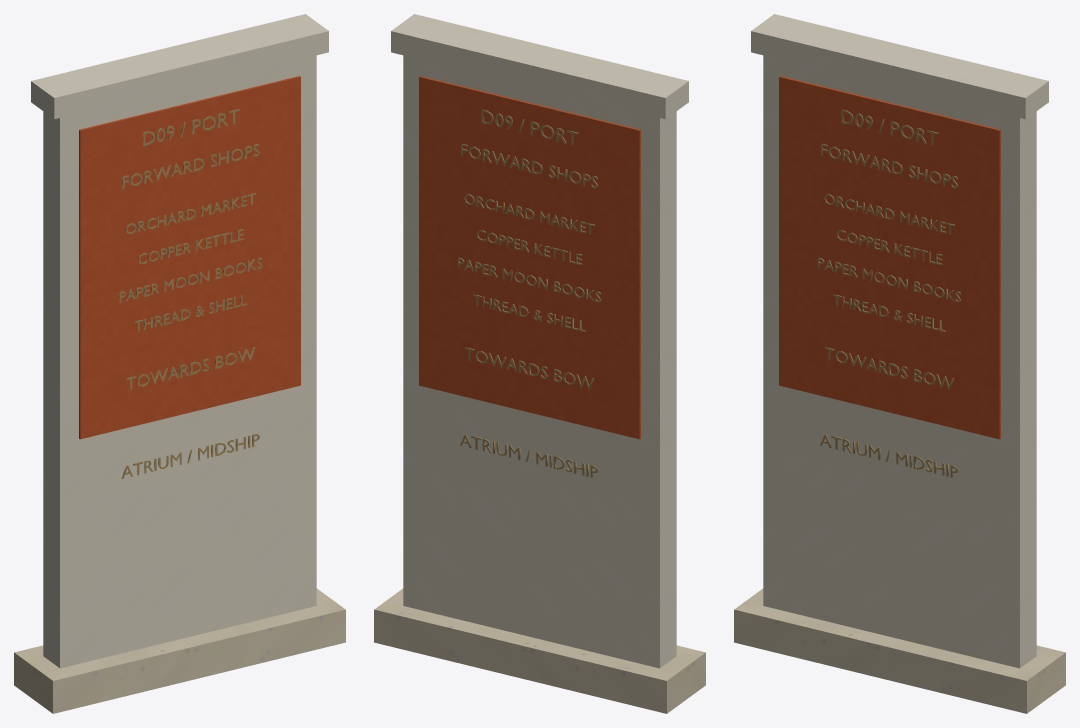
Rendered from guide_port_forward_r003.glb.
The picture shows the model from 3 angles, left to right: view 1: azimuth 30°, elevation 25°; view 2: azimuth 150°, elevation 25°; view 3: azimuth 330°, elevation 25°; orthographic projection.
Parts seen in each view (by area): view 1: profiled_column, recessed_orange_directory, weighted_plinth, crown, district, atrium, venue_2, orientation, venue_0, venue_3, venue_1, heading; view 2: profiled_column, recessed_orange_directory_back, weighted_plinth, crown, district_back, atrium_back, venue_2_back, orientation_back, venue_0_back, venue_3_back, venue_1_back, heading_back; view 3: profiled_column, recessed_orange_directory, weighted_plinth, crown, district, atrium, venue_2, orientation, venue_0, venue_3, venue_1, heading.
Boxes of the visible parts, x1=… form: profiled_column: x1=43, y1=55, x2=316, y2=668; recessed_orange_directory: x1=79, y1=76, x2=300, y2=439; weighted_plinth: x1=14, y1=588, x2=345, y2=713; crown: x1=31, y1=14, x2=328, y2=119; district: x1=122, y1=144, x2=259, y2=188; atrium: x1=121, y1=434, x2=259, y2=478; venue_2: x1=119, y1=257, x2=262, y2=302; orientation: x1=126, y1=347, x2=255, y2=389; venue_0: x1=125, y1=193, x2=256, y2=234; venue_3: x1=134, y1=295, x2=247, y2=331; venue_1: x1=138, y1=229, x2=243, y2=264; heading: x1=143, y1=109, x2=239, y2=146; profiled_column: x1=403, y1=55, x2=676, y2=668; recessed_orange_directory_back: x1=419, y1=76, x2=640, y2=439; weighted_plinth: x1=374, y1=588, x2=705, y2=713; crown: x1=391, y1=14, x2=688, y2=119; district_back: x1=461, y1=143, x2=597, y2=188; atrium_back: x1=460, y1=434, x2=598, y2=477; venue_2_back: x1=457, y1=257, x2=600, y2=302; orientation_back: x1=464, y1=347, x2=593, y2=389; venue_0_back: x1=464, y1=194, x2=594, y2=234; venue_3_back: x1=473, y1=294, x2=585, y2=332; venue_1_back: x1=476, y1=230, x2=582, y2=265; heading_back: x1=481, y1=109, x2=578, y2=145; profiled_column: x1=763, y1=55, x2=1036, y2=668; recessed_orange_directory: x1=779, y1=76, x2=1000, y2=439; weighted_plinth: x1=734, y1=588, x2=1065, y2=713; crown: x1=751, y1=14, x2=1048, y2=119; district: x1=821, y1=143, x2=957, y2=188; atrium: x1=820, y1=434, x2=958, y2=477; venue_2: x1=817, y1=257, x2=960, y2=302; orientation: x1=824, y1=347, x2=953, y2=389; venue_0: x1=824, y1=194, x2=954, y2=234; venue_3: x1=833, y1=294, x2=945, y2=332; venue_1: x1=836, y1=230, x2=942, y2=265; heading: x1=841, y1=109, x2=938, y2=145.
Size of the model in its own units: 1.3 by 2.58 by 0.3.
Materials: 4 (4 with a texture image).
